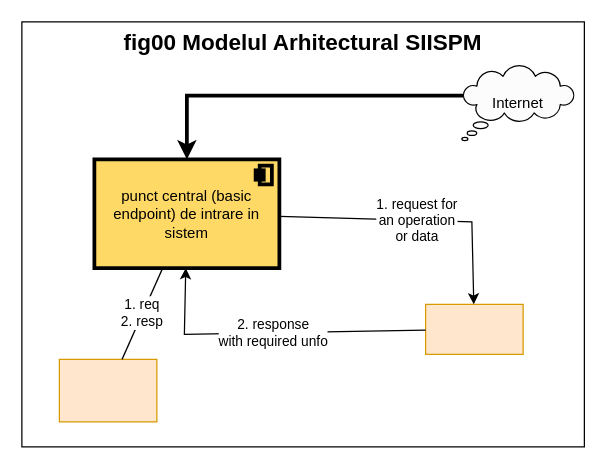
This 606x469 diagram has some shape labels left out. Each missing label, with the centre of its shape:
"componenta functionala" goes at (x=473, y=328).
"componenta functionala ... n ..." goes at (x=107, y=390).
